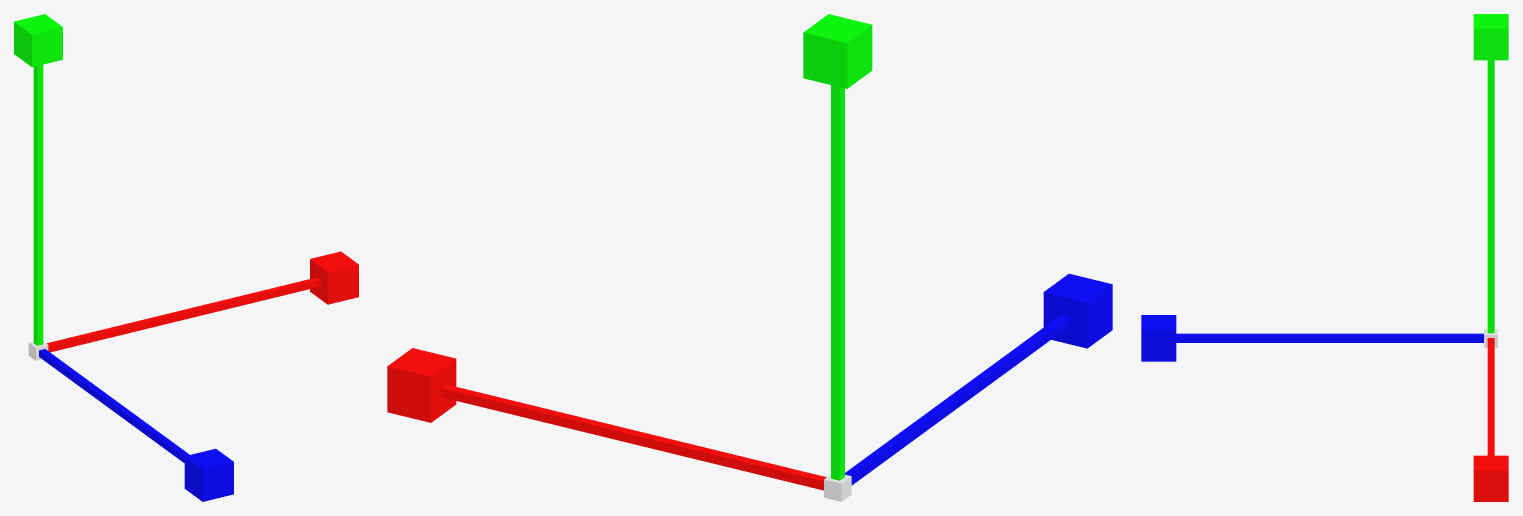
Rendered from scale.glb.
3 views of the same model, side by side, from view 1: azimuth 30°, elevation 25°; view 2: azimuth 150°, elevation 25°; view 3: azimuth 270°, elevation 25° (orthographic). The views are drawn at different scales.
Parts seen in each view (by area): view 1: Cube.001, Cube, Cube.002; view 2: Cube.001, Cube, Cube.002; view 3: Cube.002, Cube.001, Cube.
Part boxes in pixels (bbox=[...]): Cube.001: bbox=[14, 14, 62, 345]; Cube: bbox=[47, 251, 358, 352]; Cube.002: bbox=[39, 349, 233, 501]; Cube.001: bbox=[803, 14, 872, 480]; Cube: bbox=[387, 348, 826, 490]; Cube.002: bbox=[845, 273, 1112, 485]; Cube.002: bbox=[1141, 315, 1483, 361]; Cube.001: bbox=[1473, 14, 1508, 333]; Cube: bbox=[1473, 338, 1508, 501].
Bounding box in the file's own units: 1.05 × 1.05 × 1.05.
